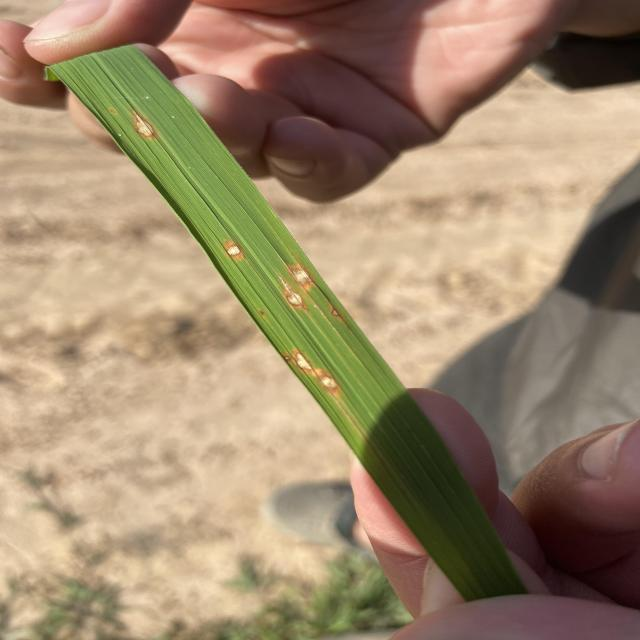Dao on: (280, 277, 304, 307), (311, 369, 339, 393), (288, 265, 314, 288), (134, 112, 154, 138), (294, 350, 312, 371), (225, 240, 243, 259), (331, 308, 341, 319), (284, 356, 290, 360), (111, 109, 115, 113)
